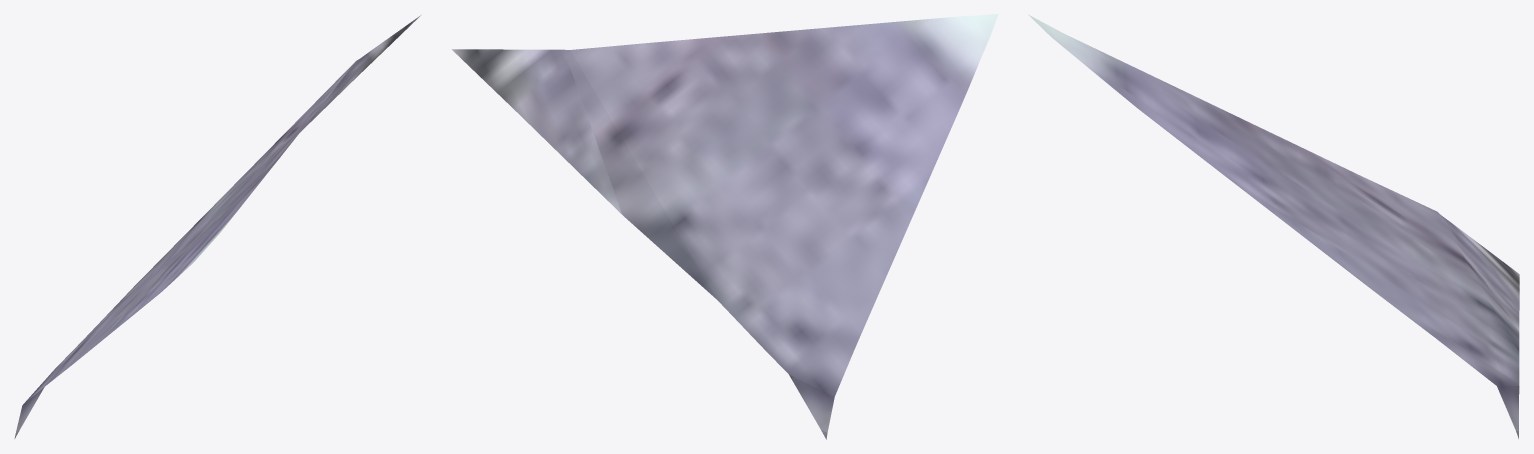
Rendered from Tile_+009_+007_L19_00010.glb.
The picture shows the model from 3 angles, left to right: view 1: azimuth 30°, elevation 25°; view 2: azimuth 150°, elevation 25°; view 3: azimuth 270°, elevation 25°; orthographic projection. The views are drawn at different scales.
Parts seen in each view (by area): view 1: rtc; view 2: rtc; view 3: rtc.
Part boxes in pixels (<box>): rtc: <box>14,15,420,438</box>; rtc: <box>452,14,998,439</box>; rtc: <box>1028,14,1519,438</box>.
Size of the model in its own units: 3.18 by 2.42 by 2.54.
Materials: 1 (1 with a texture image).
